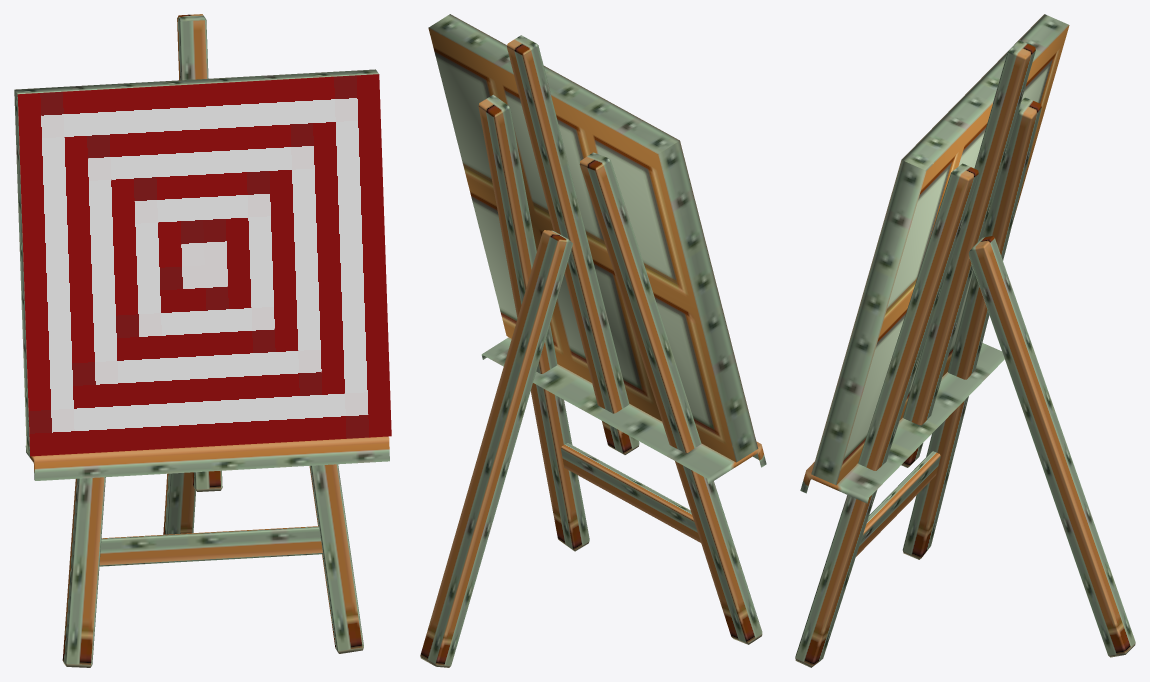
Rendered from myd_easel.dae.
3 renders of one model, left to right at view 1: azimuth 30°, elevation 25°; view 2: azimuth 150°, elevation 25°; view 3: azimuth 270°, elevation 25°, orthographic. The views are drawn at different scales.
Visible parts, largest first — view 1: myd_easel; view 2: myd_easel; view 3: myd_easel.
Boxes of the visible parts, x1=… form: myd_easel: x1=14, y1=14, x2=391, y2=667; myd_easel: x1=420, y1=14, x2=766, y2=667; myd_easel: x1=795, y1=14, x2=1135, y2=667.
Bounding box in the file's own units: 28 × 46.23 × 24.15.
Materials: 3 (3 with a texture image).
